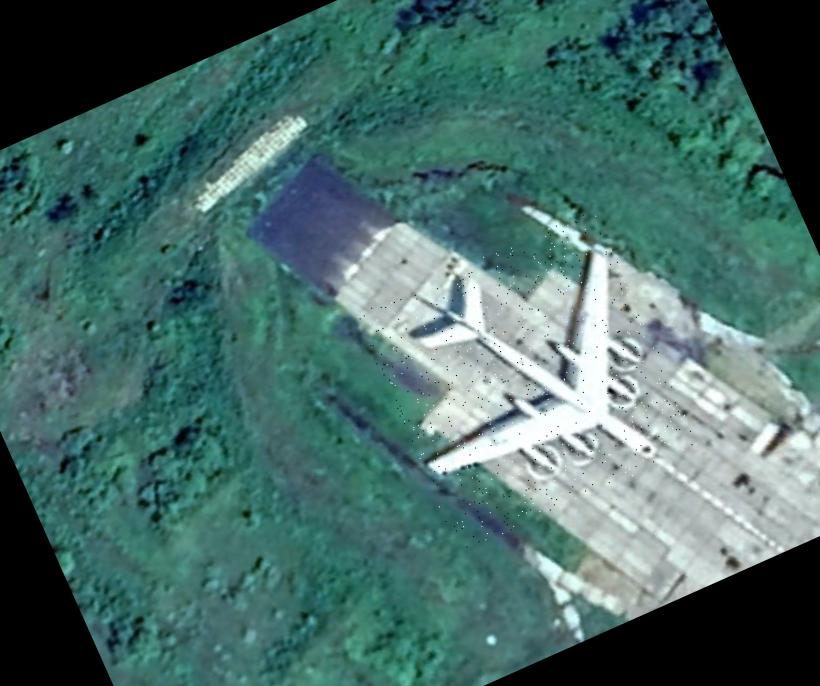A17: (354, 207, 700, 553)
